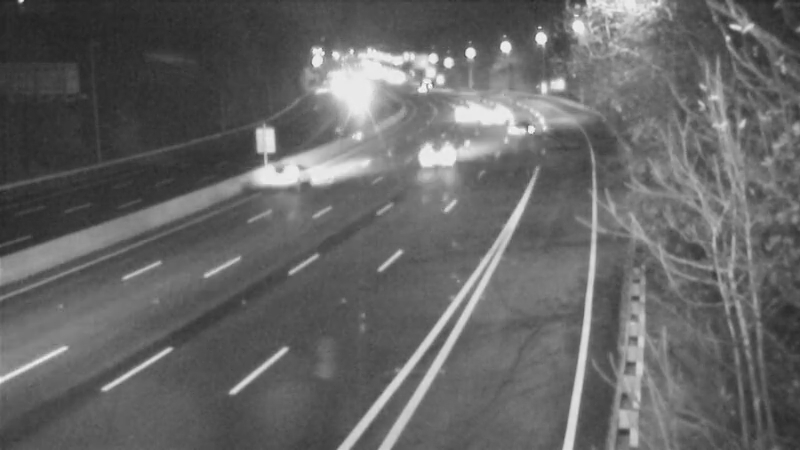vehicle: (395, 115, 475, 195), (236, 138, 316, 218), (435, 90, 485, 140), (468, 92, 518, 142), (497, 109, 547, 159)
